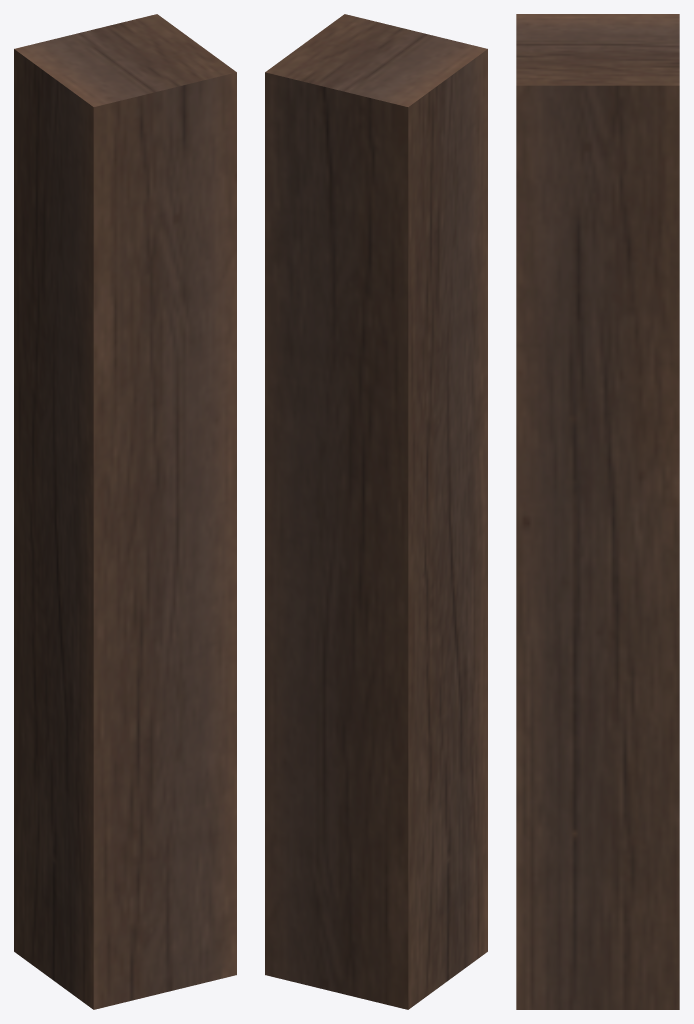
File: pile03.fbx
3 renders of one model, left to right at view 1: azimuth 30°, elevation 25°; view 2: azimuth 150°, elevation 25°; view 3: azimuth 270°, elevation 25°, orthographic. The views are drawn at different scales.
Parts seen in each view (by area): view 1: pile03; view 2: pile03; view 3: pile03.
Part boxes in pixels (bbox=[...]): pile03: bbox=[14, 14, 236, 1009]; pile03: bbox=[265, 14, 487, 1009]; pile03: bbox=[516, 14, 679, 1009].
Bounding box in the file's own units: 10.79 × 65 × 10.4.
